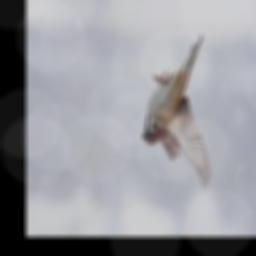Sparrow: (142, 36, 213, 189)
